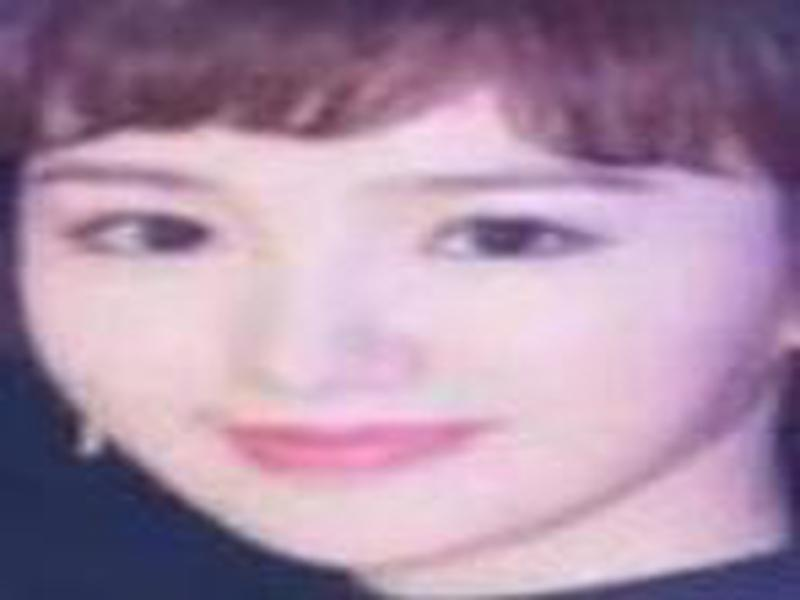without_mask: (17, 97, 776, 567)
